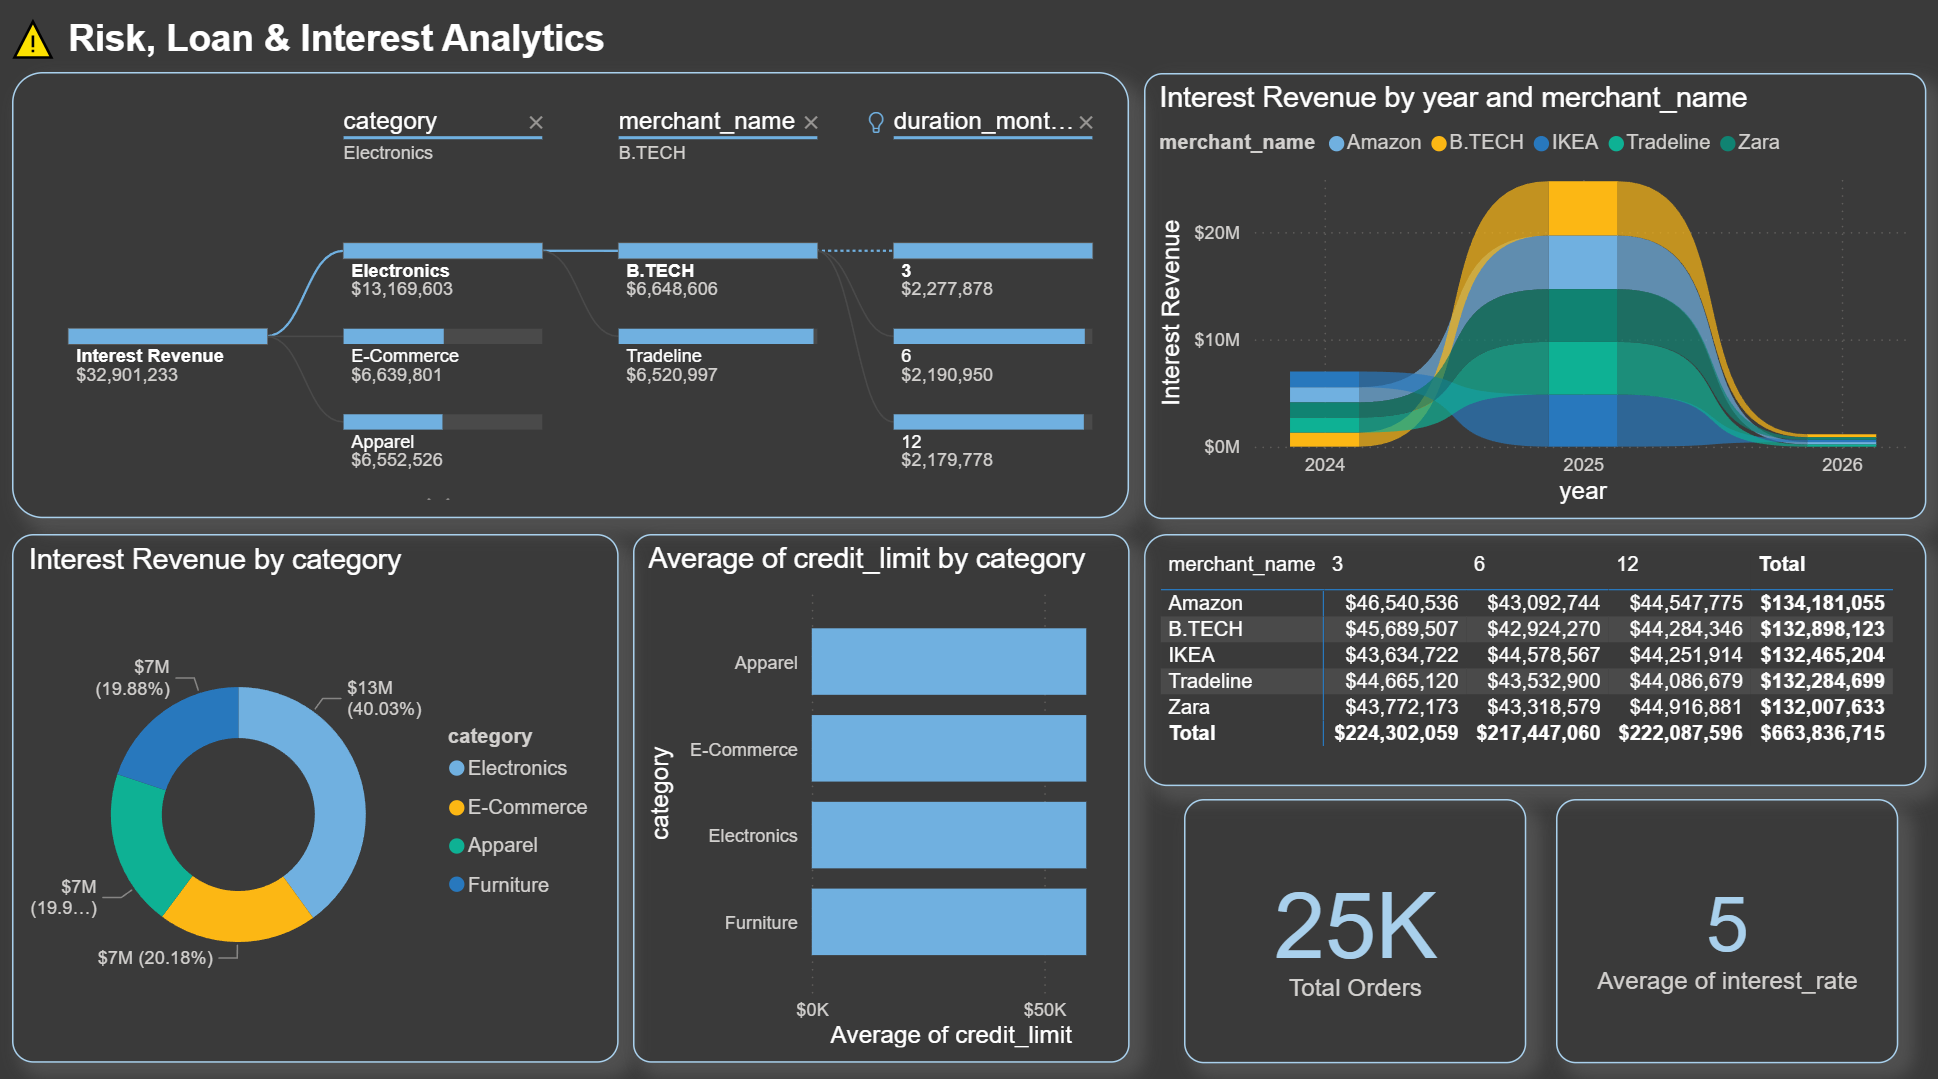

The dashboard page shown, as its layout file describes it:
{"tool":"powerbi","page":{"name":"Risk & Loan Insights","canvas":[1280,720],"ordinal":2},"visuals":[{"type":"textbox","box":[10.5,9.2,405.1,44.5],"z":0},{"type":"decompositionTreeVisual","fields":{"Analyze":["_KPIs_Measures.Interest Revenue"],"ExplainBy":["dw dim_merchants.category","dw dim_merchants.merchant_name","dw fact_orders.duration_months"]},"box":[18.3,53.7,731,291.9],"z":1},{"type":"ribbonChart","fields":{"Category":["dw dim_date.year"],"Y":["_KPIs_Measures.Interest Revenue"],"Series":["dw dim_merchants.merchant_name"]},"box":[759.1,54.3,511.7,291.9],"z":3},{"type":"donutChart","fields":{"Category":["dw dim_merchants.category"],"Y":["_KPIs_Measures.Interest Revenue"]},"box":[18.3,356,397.2,346.2],"z":4},{"type":"pivotTable","fields":{"Rows":["dw dim_merchants.merchant_name"],"Columns":["dw fact_orders.duration_months"],"Values":["_KPIs_Measures.Total Sales (GMV)"]},"box":[759.1,356,511.7,164.9],"z":5},{"type":"card","fields":{"Values":["_KPIs_Measures.Total Orders"]},"box":[785.3,529.4,224.5,172.8],"z":6},{"type":"card","fields":{"Values":["Avg(dw fact_orders.interest_rate)"]},"box":[1028.7,529.4,224.5,172.8],"z":7},{"type":"barChart","fields":{"Category":["dw dim_merchants.category"],"Y":["Avg(dw dim_customers.credit_limit)"]},"box":[424.7,356,324.6,346.2],"z":8}]}

Visuals, with their boxes in screenshot pixels (x1, y1, x2, y2), scaled from the page's 1280x720 canvas onto the 1938x1079 screenshot:
textbox: Rect(16, 14, 629, 80)
decompositionTreeVisual - _KPIs_Measures.Interest Revenue x dw dim_merchants.category: Rect(28, 80, 1134, 518)
ribbonChart - dw dim_date.year x _KPIs_Measures.Interest Revenue: Rect(1149, 81, 1924, 519)
donutChart - dw dim_merchants.category x _KPIs_Measures.Interest Revenue: Rect(28, 534, 629, 1052)
pivotTable - dw dim_merchants.merchant_name x dw fact_orders.duration_months: Rect(1149, 534, 1924, 781)
card - _KPIs_Measures.Total Orders: Rect(1189, 793, 1529, 1052)
card - Avg(dw fact_orders.interest_rate): Rect(1558, 793, 1897, 1052)
barChart - dw dim_merchants.category x Avg(dw dim_customers.credit_limit): Rect(643, 534, 1134, 1052)
